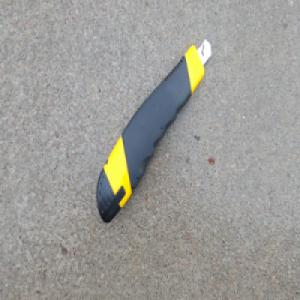Cutter: (95, 37, 213, 225)
